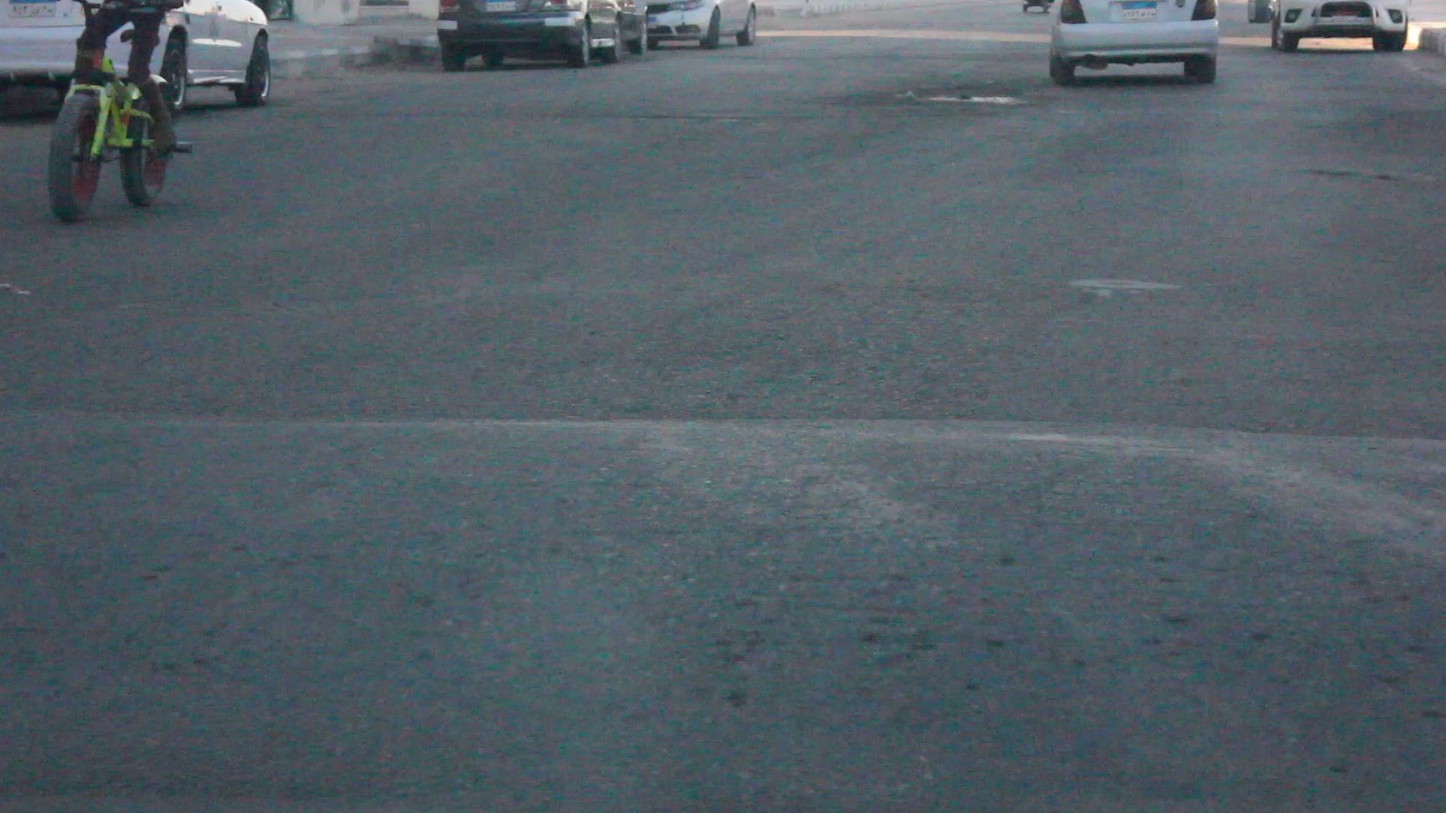Bump: (3, 410, 1445, 812)
Pothole: (835, 83, 1034, 106)
